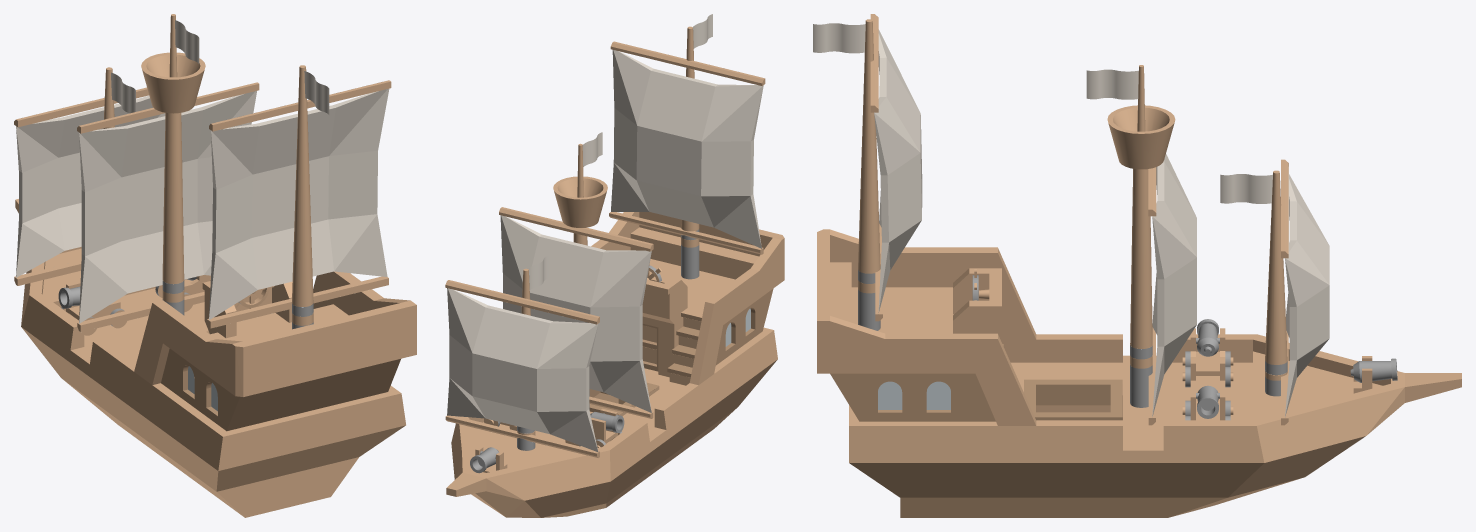
The model's file is ship.gltf.
The picture shows the model from 3 angles, left to right: view 1: azimuth 30°, elevation 25°; view 2: azimuth 150°, elevation 25°; view 3: azimuth 270°, elevation 25°; orthographic projection. The views are drawn at different scales.
Visible parts, largest first — view 1: ship_light_8angles, sail_back 1, sail_middle 1, sail_front 1, cannon_left 1; view 2: ship_light_8angles, sail_back 1, sail_front 1, sail_middle 1, cannon_front 1.001, cannon_left 1, cannon_left 1.001; view 3: ship_light_8angles, sail_back 1, sail_middle 1, sail_front 1, cannon_left 1, cannon_front 1.001, cannon_left 1.001.
Boxes of the visible parts, x1,y1,x2,y2 form: ship_light_8angles: (15,14,416,517); sail_back 1: (207,80,391,328); sail_middle 1: (77,82,259,331); sail_front 1: (14,87,165,285); cannon_left 1: (66,281,120,320); ship_light_8angles: (446,14,784,517); sail_back 1: (609,41,765,254); sail_front 1: (445,280,599,457); sail_middle 1: (499,207,653,418); cannon_front 1.001: (470,447,498,473); cannon_left 1: (591,408,617,443); cannon_left 1.001: (590,412,624,432); ship_light_8angles: (813,19,1461,517); sail_back 1: (870,14,922,321); sail_middle 1: (1148,154,1196,425); sail_front 1: (1281,159,1329,425); cannon_left 1: (1190,328,1225,380); cannon_front 1.001: (1350,358,1397,382); cannon_left 1.001: (1197,319,1218,356).
Size of the model in its own units: 2.85 by 6.55 by 8.1.
